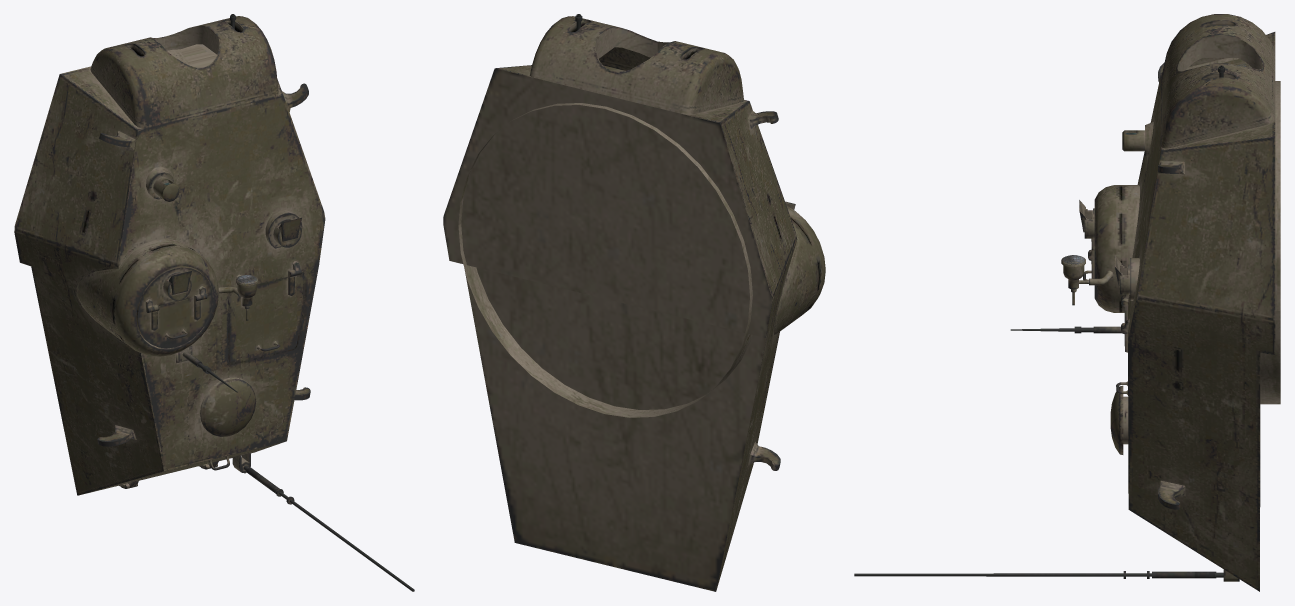
Rendered from Turret_01.glb.
3 views of the same model, side by side, from view 1: azimuth 30°, elevation 25°; view 2: azimuth 150°, elevation 25°; view 3: azimuth 270°, elevation 25° (orthographic). The views are drawn at different scales.
Parts seen in each view (by area): view 1: set_0_group_0; view 2: set_0_group_0; view 3: set_0_group_0.
Boxes of the visible parts, <box> form: set_0_group_0: <box>14,14,414,591</box>; set_0_group_0: <box>443,14,825,591</box>; set_0_group_0: <box>854,14,1280,591</box>.
Bounding box in the file's own units: 2.02 × 3.1 × 2.36.
Materials: 1 (1 with a texture image).
